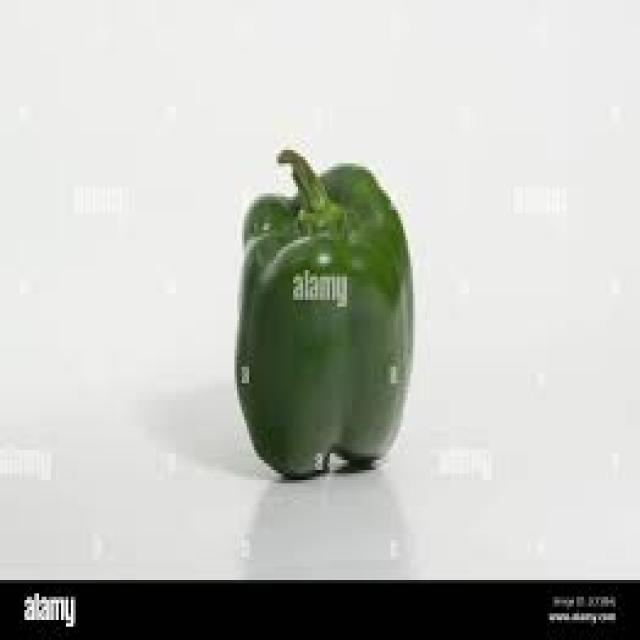bell_pepper: (232, 142, 423, 498)
